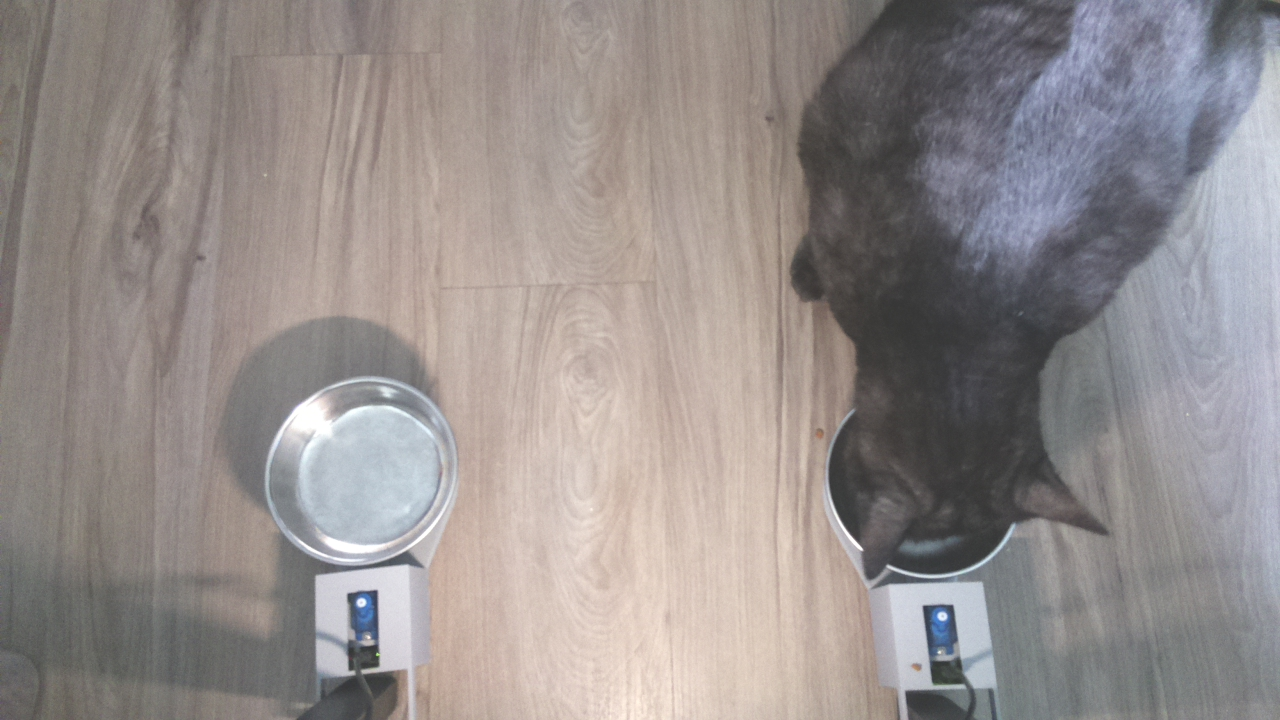open_bowl: (257, 375, 457, 572)
saki_eating: (819, 356, 1130, 594)
